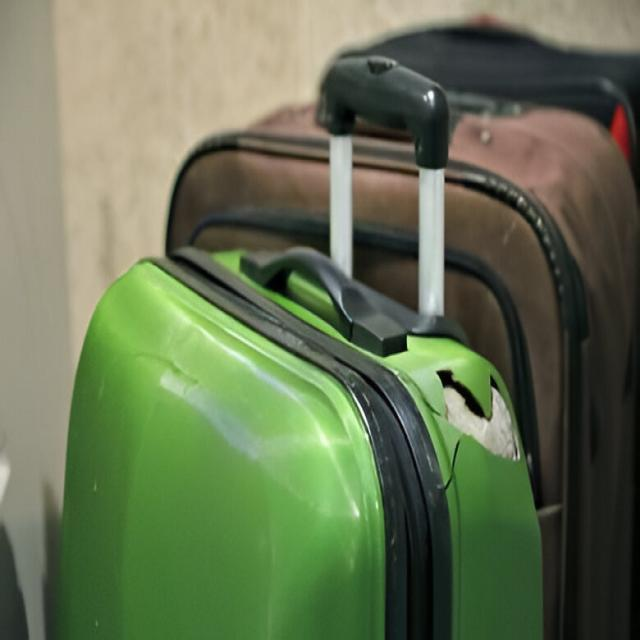Damage-bag: (405, 370, 520, 487)
